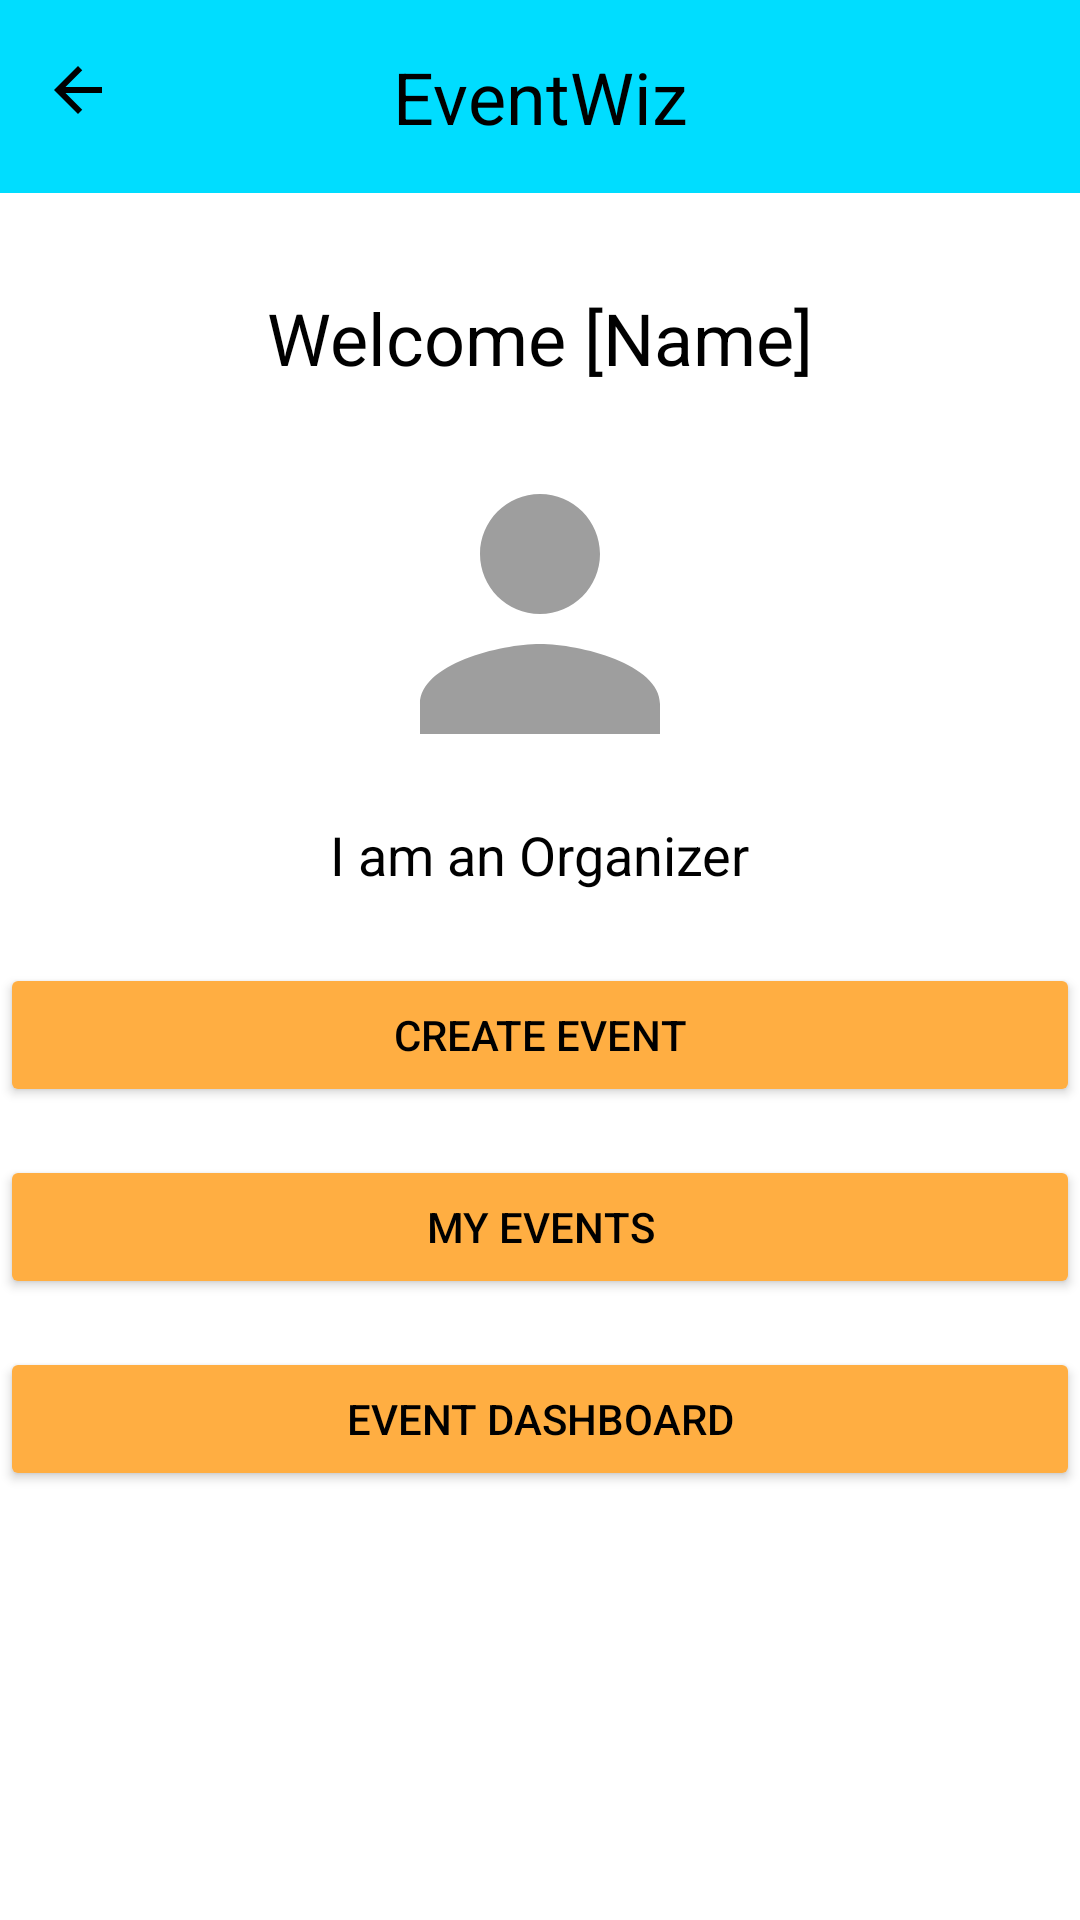

Locate icon controls on the screen. Image size 1080*1920, boxes as (x1, y1, x2, y2).
go back to previous page: (54, 66, 102, 114)
profile: (420, 494, 660, 734)
